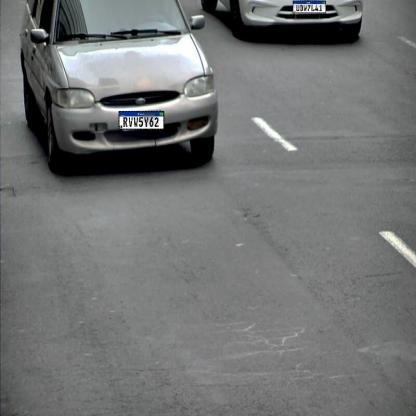PlacaM: (119, 111, 164, 130), (293, 1, 326, 13)
